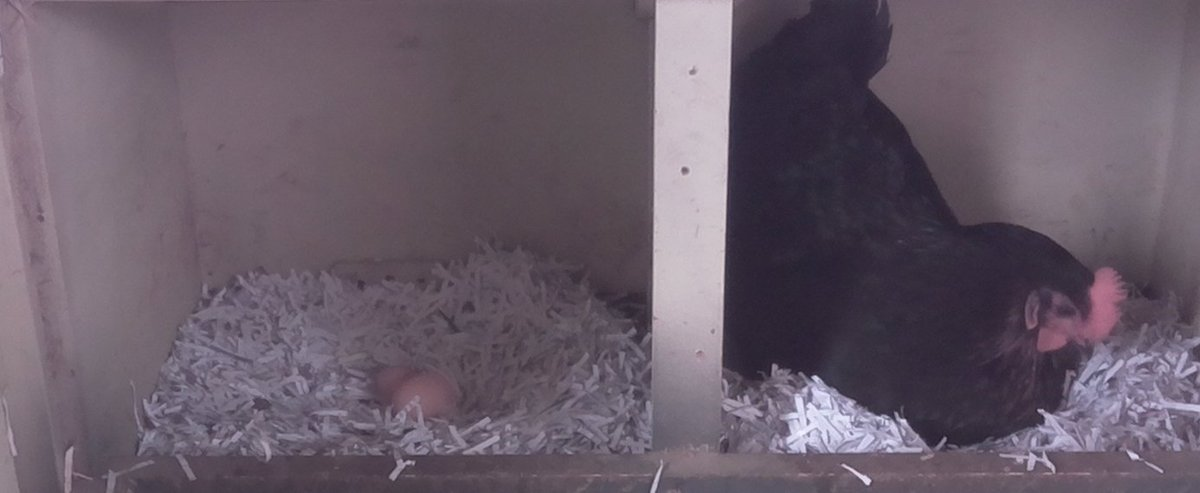egg: (391, 366, 460, 424), (369, 356, 417, 398)
hen: (736, 6, 1134, 447)
